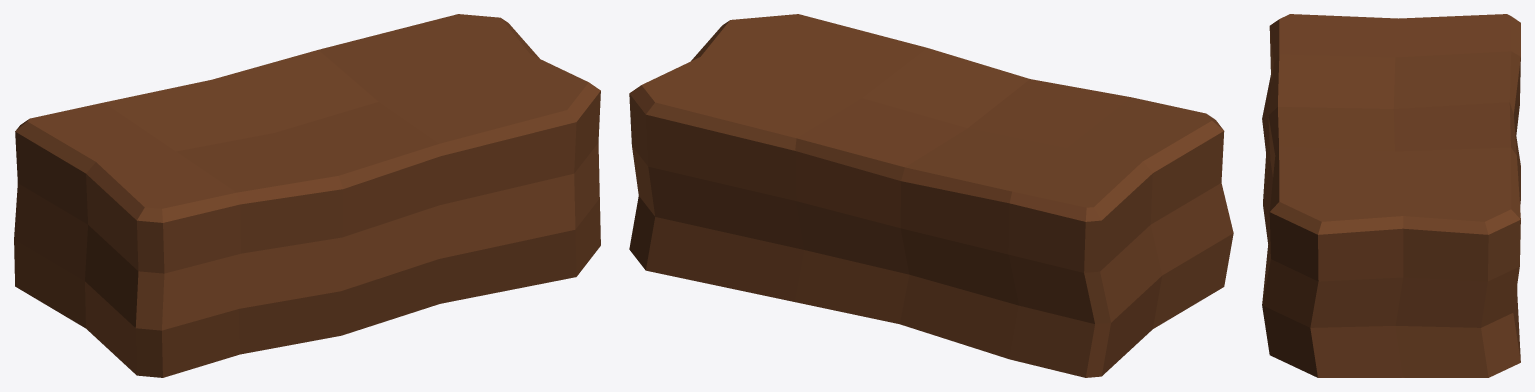
Rendered from r_foot.001.glb.
The picture shows the model from 3 angles, left to right: view 1: azimuth 30°, elevation 25°; view 2: azimuth 150°, elevation 25°; view 3: azimuth 270°, elevation 25°; orthographic projection. The views are drawn at different scales.
Parts seen in each view (by area): view 1: r_foot.001; view 2: r_foot.001; view 3: r_foot.001.
Part boxes in pixels (x1,y1,x2,y2): r_foot.001: [14, 14, 600, 377]; r_foot.001: [629, 14, 1233, 377]; r_foot.001: [1262, 14, 1520, 377].
Bounding box in the file's own units: 0.581 × 0.1893 × 0.2889.
